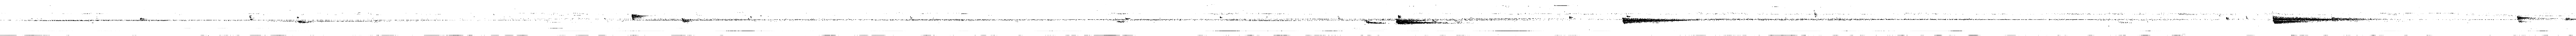meteor: (2272, 16, 2367, 23), (1621, 18, 1700, 23), (1396, 18, 1436, 25), (2517, 15, 2537, 20), (631, 15, 649, 20), (1365, 20, 1387, 23), (297, 20, 310, 23), (682, 18, 690, 23), (2518, 20, 2528, 23), (1117, 20, 1125, 23), (2564, 18, 2576, 20), (1626, 15, 1631, 18), (140, 18, 146, 20)
